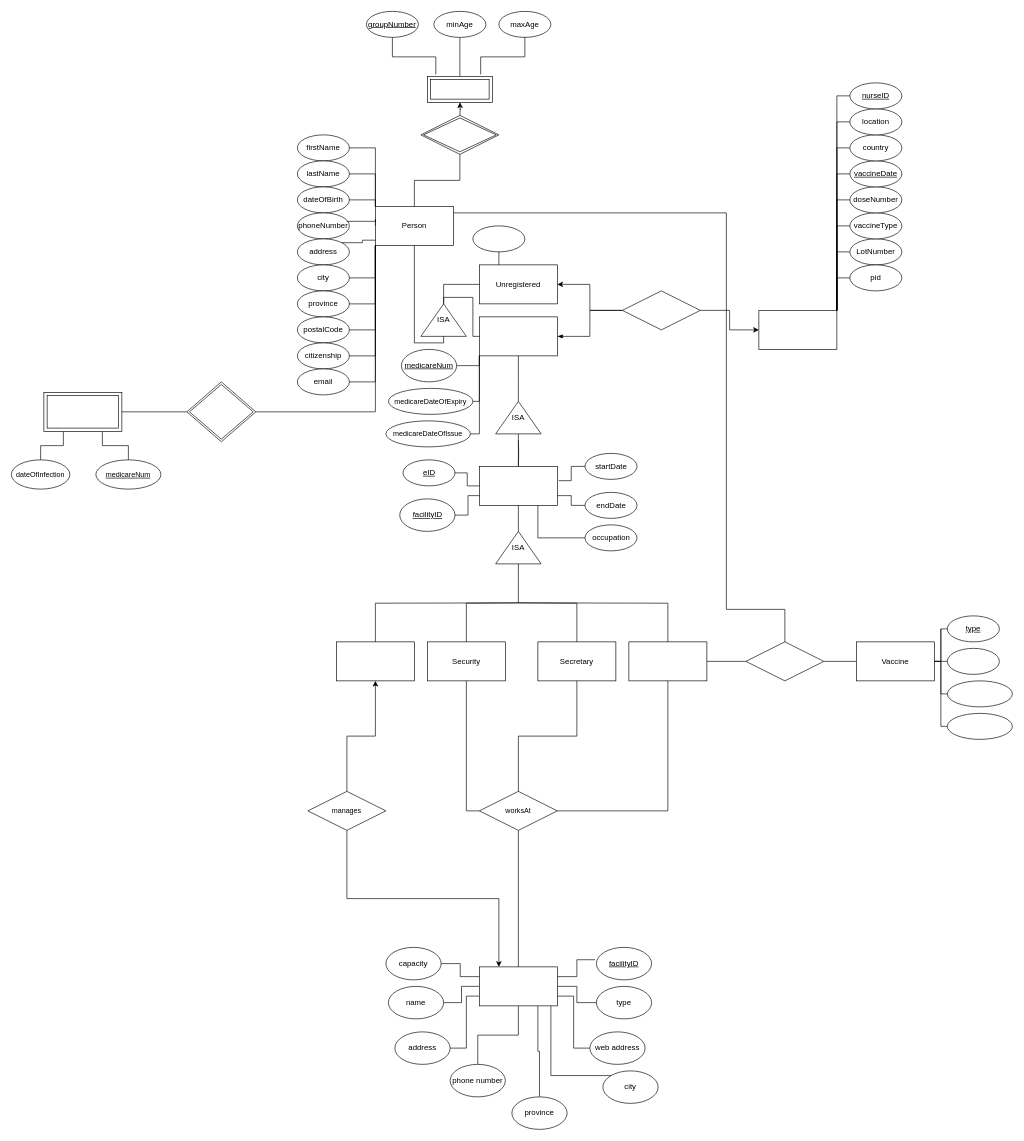
The diagram is 1024 pixels wide and 1141 high, and some of its shapes have lost their labels. Each missing label, with the centre of its shape:
administers: the point at 784,661
Age Group: the point at 459,89
BelongsTo: the point at 459,134
dateOfApproval: the point at 979,693
dateOfSuspension: the point at 979,726
hasBeenVaccinated: the point at 661,310
infectedBy: the point at 221,411
InfectionHistory: the point at 82,411
Manager: the point at 375,661
Nurse: the point at 667,661
passportNum: the point at 498,238
PublicHealthWorker: the point at 518,485
Registered: the point at 518,336
status: the point at 973,661
Vaccination Facility: the point at 518,986
VaccineRecord: the point at 797,329
